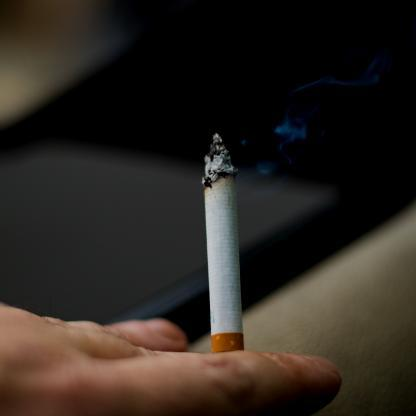cigarette: (196, 127, 248, 352)
smoke: (274, 108, 312, 154)
